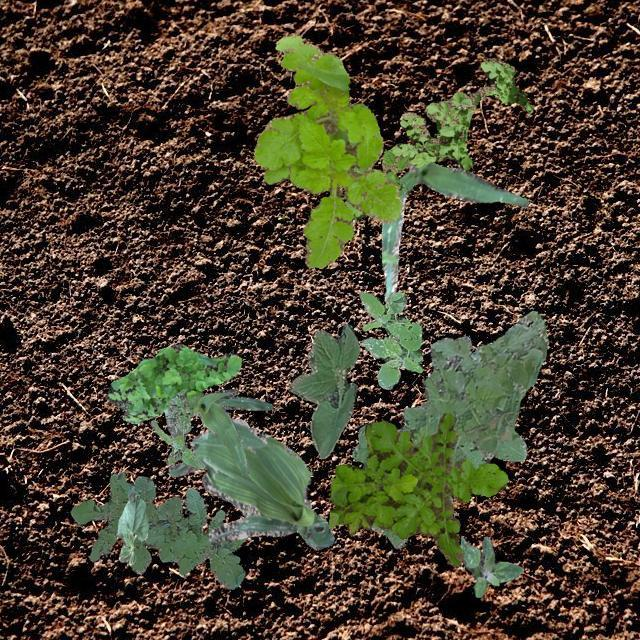crop: (168, 418, 334, 550), (380, 160, 528, 300), (288, 322, 358, 458), (164, 388, 272, 473), (115, 492, 146, 564)
weed: (352, 310, 548, 548), (252, 34, 400, 266), (344, 56, 532, 218), (328, 412, 507, 566), (70, 470, 246, 588), (104, 342, 240, 422), (358, 291, 422, 388), (150, 388, 203, 468), (458, 536, 522, 596)
